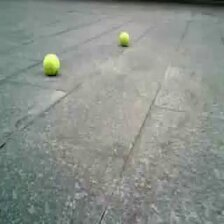tennis: (43, 55, 60, 74), (119, 31, 129, 44)
